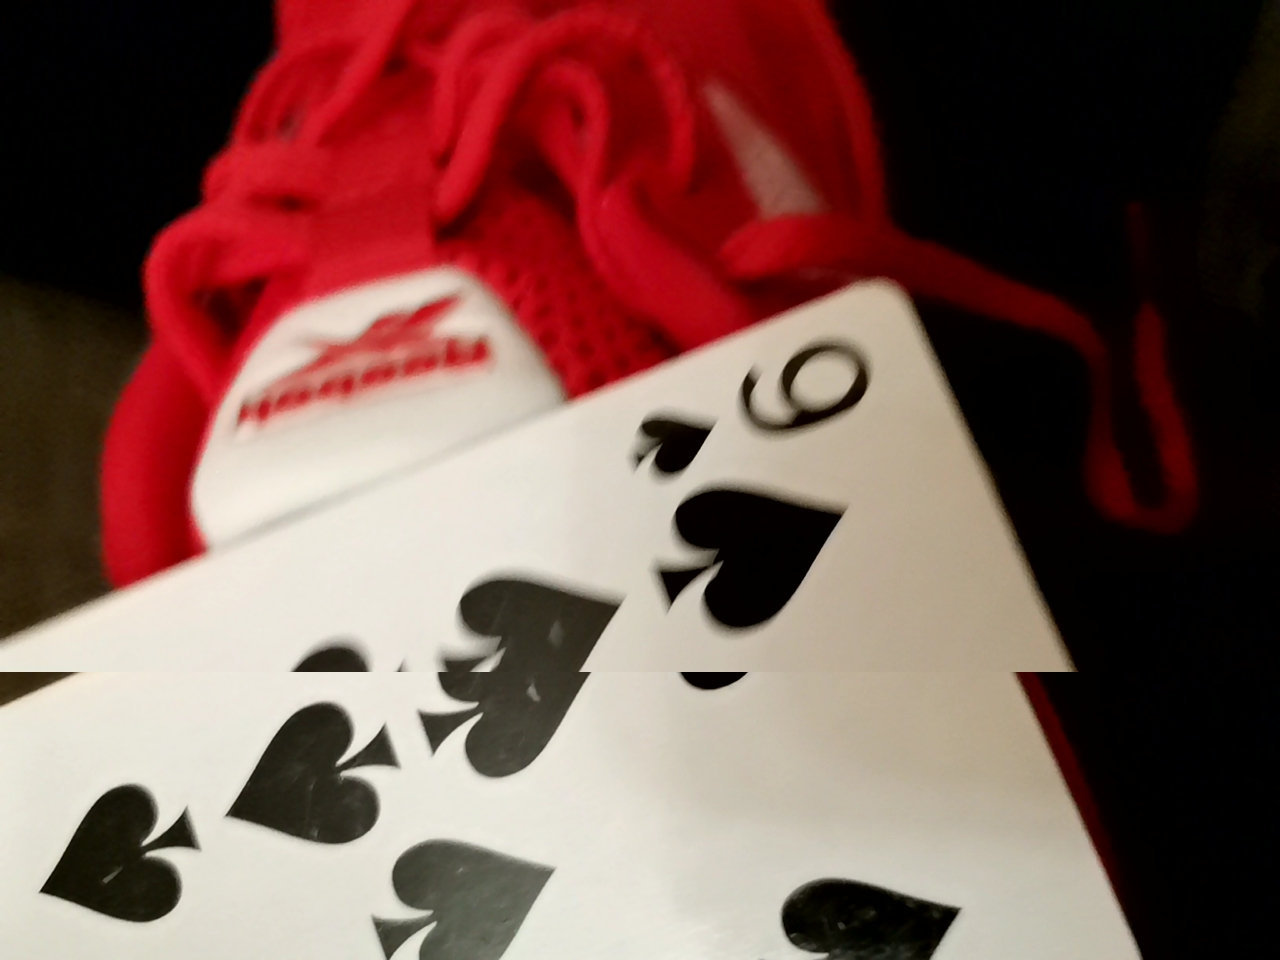ht 9: (0, 254, 1176, 957)
